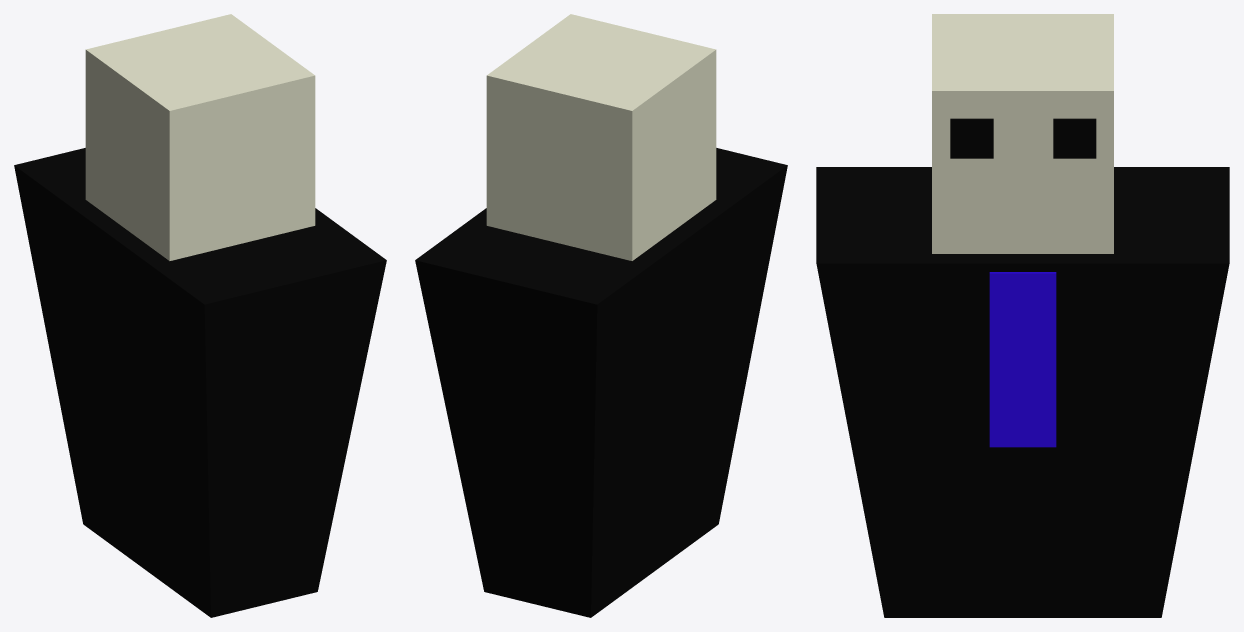
The model's file is user2.glb.
3 renders of one model, left to right at view 1: azimuth 30°, elevation 25°; view 2: azimuth 150°, elevation 25°; view 3: azimuth 270°, elevation 25°, orthographic. The views are drawn at different scales.
Parts seen in each view (by area): view 1: Cube, Cube.001; view 2: Cube, Cube.001; view 3: Cube, Cube.001, Cube.002, Cube.003, Cube.004.
Boxes of the visible parts, x1,y1,x2,y2 form: Cube: [14, 148, 386, 617]; Cube.001: [85, 14, 315, 260]; Cube: [415, 148, 787, 617]; Cube.001: [486, 14, 716, 260]; Cube: [816, 167, 1229, 617]; Cube.001: [932, 14, 1113, 253]; Cube.002: [989, 272, 1056, 447]; Cube.003: [950, 118, 993, 158]; Cube.004: [1053, 118, 1096, 158].
Bounding box in the file's own units: 1.24 × 2.87 × 2.
